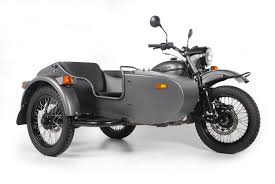motorcycle: (12, 15, 264, 155)
